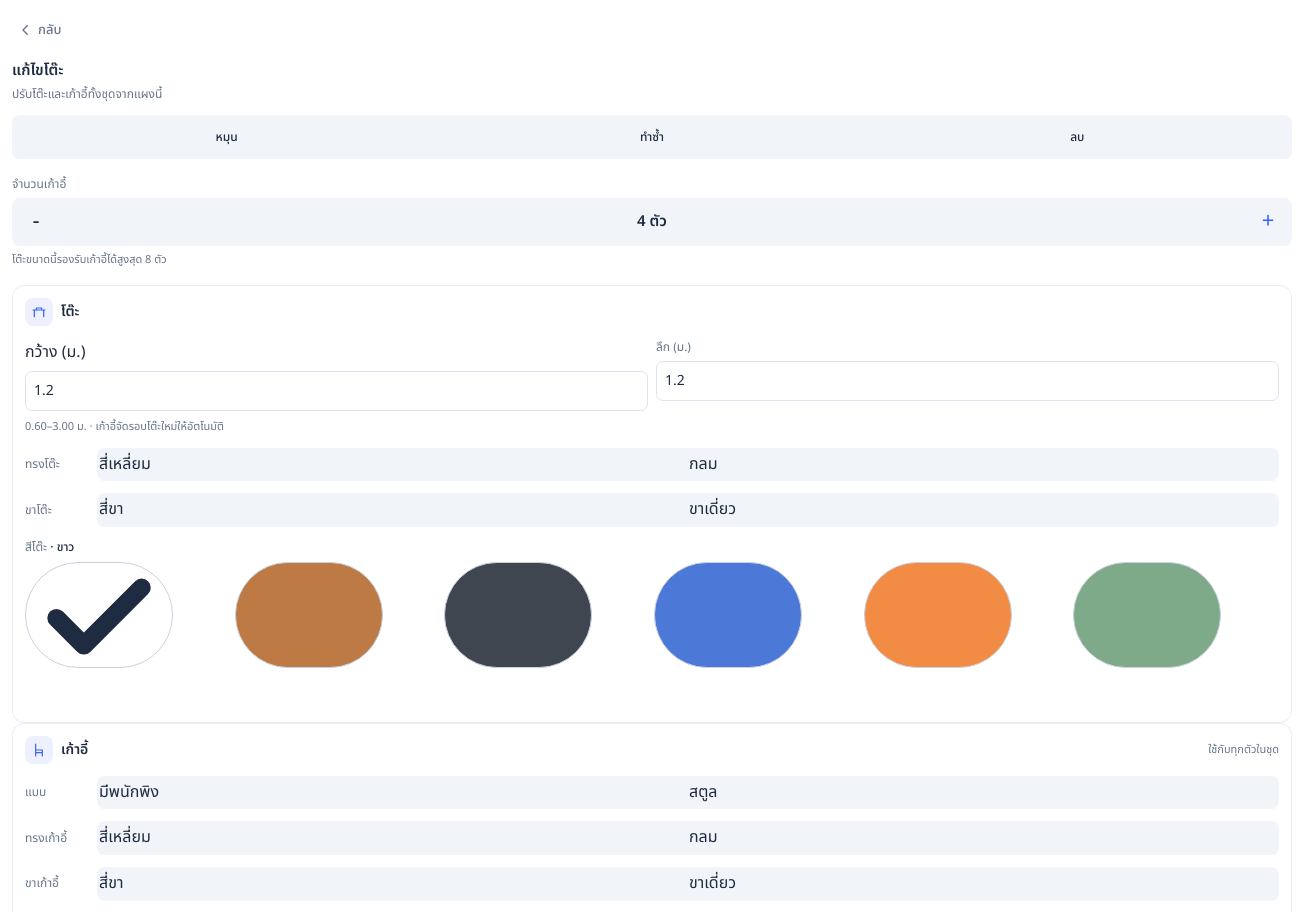
Scenario: Playground UX Comprehensive QA Suite (feat-060) › 2.1 เลือกโต๊ะหรือเก้าอี้ลูก → แผงซ้ายเป็นหน้าแก้ไขของโต๊ะชุดนั้น
The width and height of the screenshot is (1304, 912).
Expected: the heading "แก้ไขโต๊ะ" is shown, [12,59,64,82]
Expected: the heading "เพิ่มลงผัง" is not shown
Click the button named "เพิ่มจำนวนเก้าอี้" at [1268, 222], box [1248,202,1288,242]
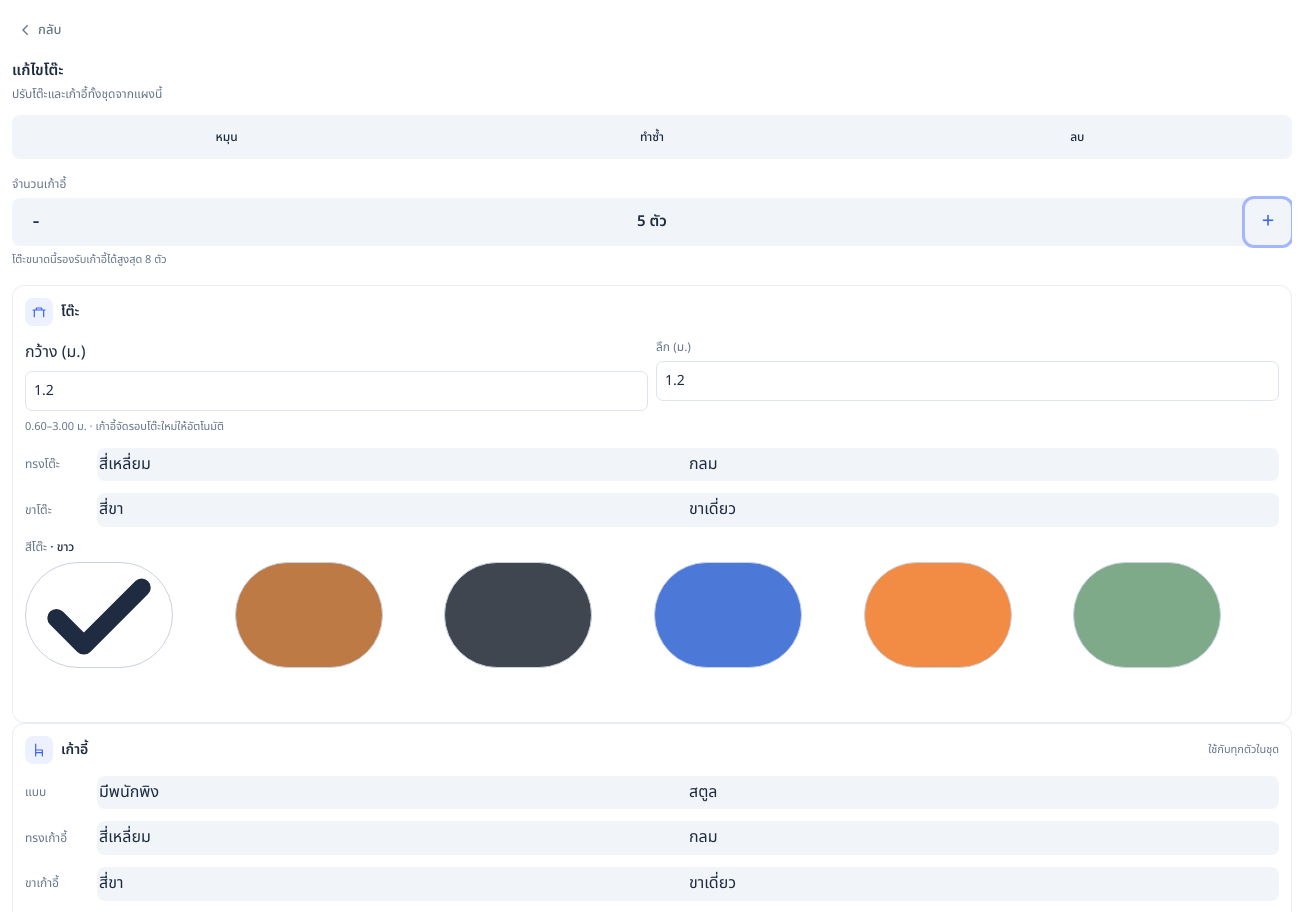
Click the button with aria-label "หมุนโต๊ะ 90 องศา" at [227, 137], box [16,119,437,155]
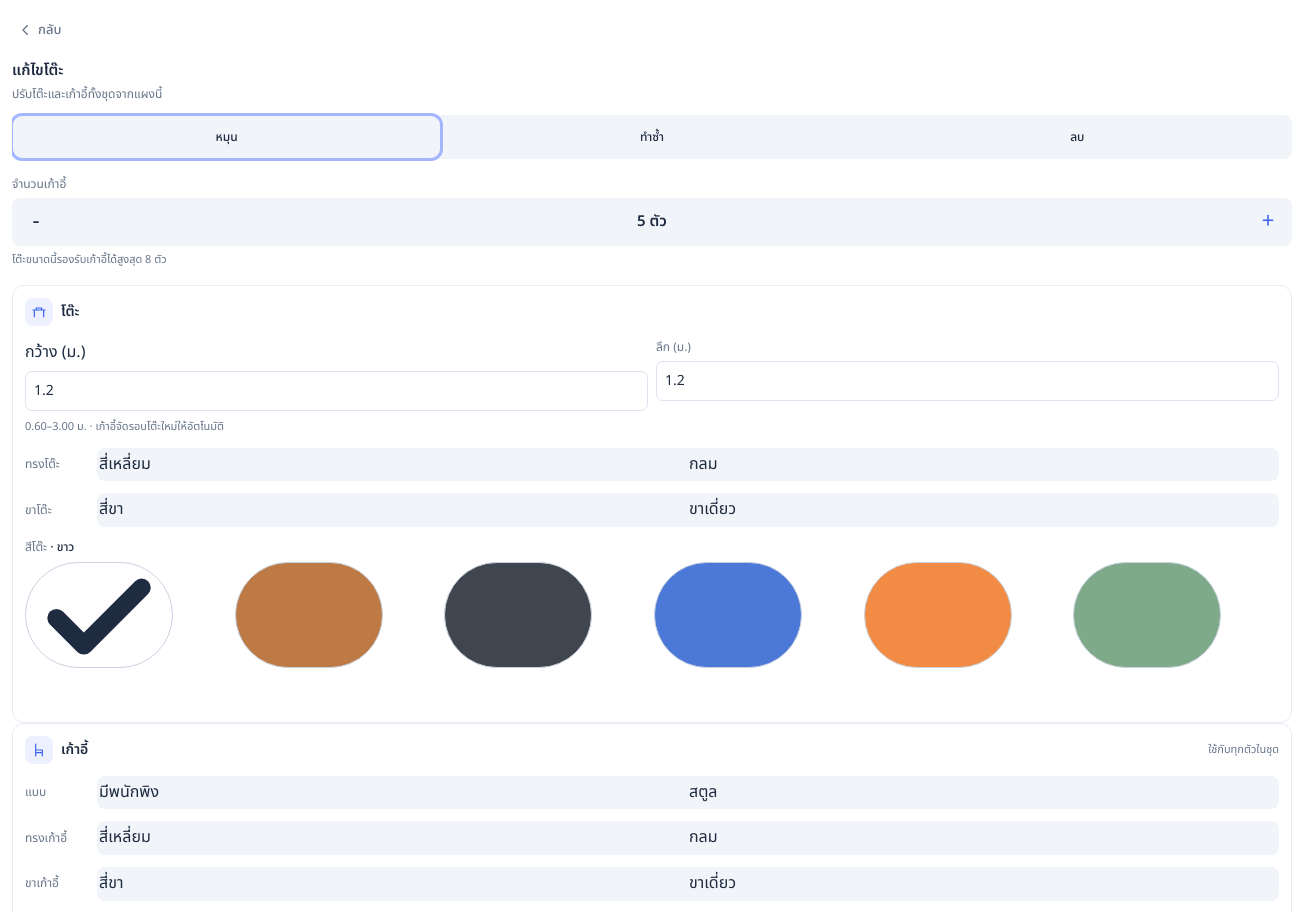
Click the button "กลับ" at [40, 30], box [12,12,67,48]
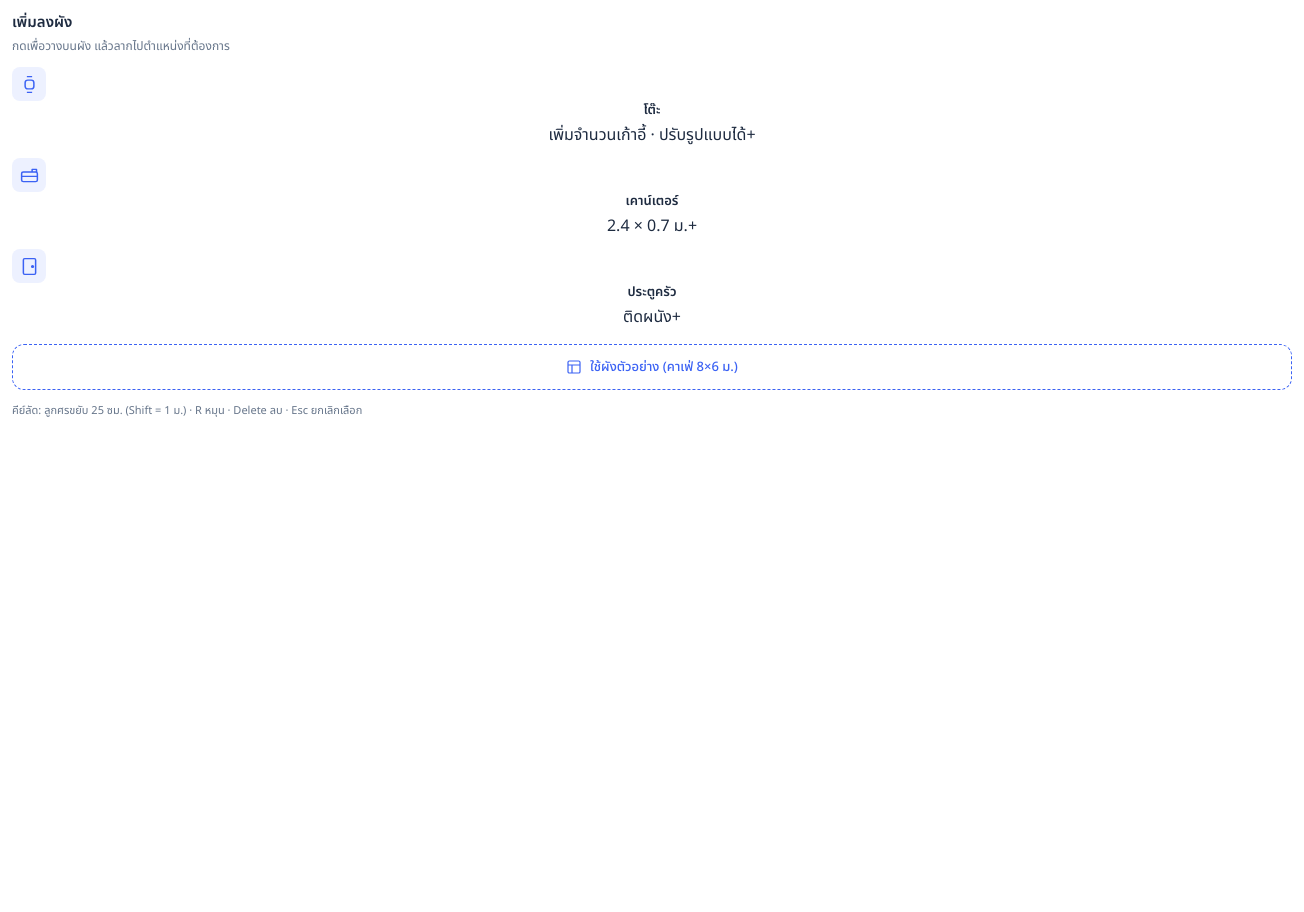
Expected: the heading "เพิ่มลงผัง" is shown, [12,11,72,34]
